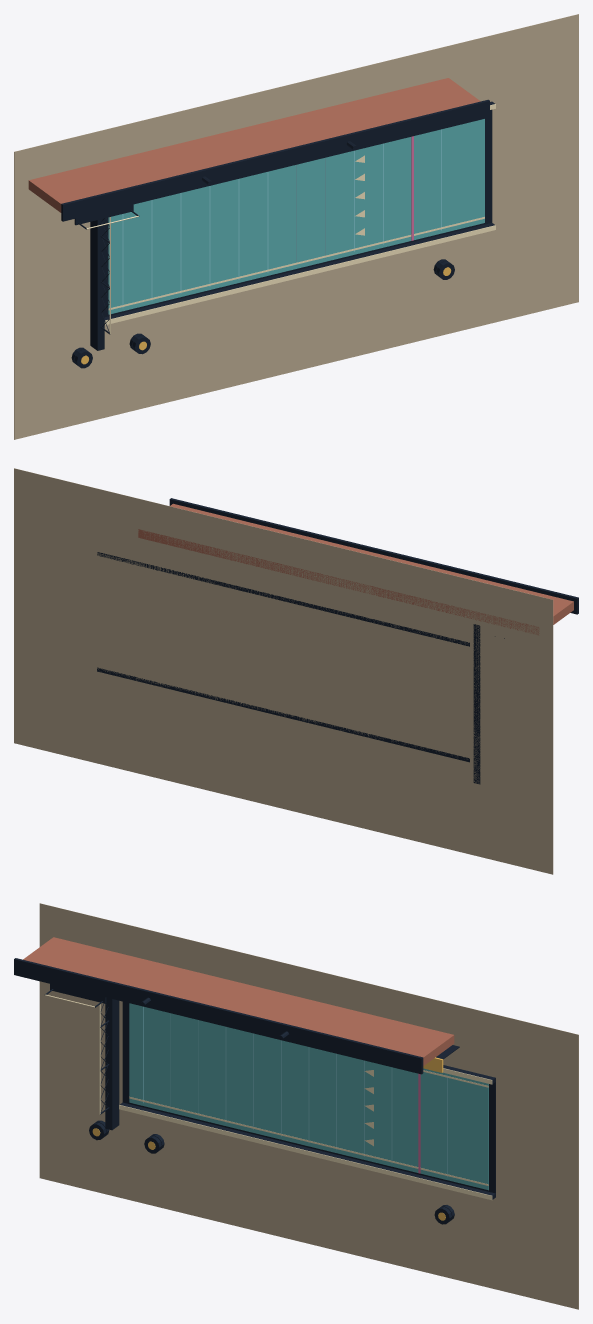
File: arcade-courtyard.glb
3 views of the same model, one above another, from view 1: azimuth 30°, elevation 25°; view 2: azimuth 150°, elevation 25°; view 3: azimuth 330°, elevation 25° (orthographic). The views are drawn at different scales.
Parts seen in each view (by area): view 1: cel_stone_arcade courtyard, cel_teal_arcade courtyard, cel_ink_arcade courtyard, cel_brick_arcade courtyard, cel_cream_arcade courtyard, cel_glass_arcade courtyard; view 2: cel_stone_arcade courtyard, cel_ink_arcade courtyard, cel_brick_arcade courtyard; view 3: cel_stone_arcade courtyard, cel_teal_arcade courtyard, cel_ink_arcade courtyard, cel_brick_arcade courtyard, cel_cream_arcade courtyard, cel_glass_arcade courtyard.
Boxes of the visible parts, left/top/right/bottom form: cel_stone_arcade courtyard: left=14, top=14, right=578, bottom=439; cel_teal_arcade courtyard: left=108, top=119, right=484, bottom=314; cel_ink_arcade courtyard: left=61, top=99, right=494, bottom=368; cel_brick_arcade courtyard: left=28, top=78, right=480, bottom=212; cel_cream_arcade courtyard: left=86, top=104, right=495, bottom=334; cel_glass_arcade courtyard: left=122, top=129, right=441, bottom=307; cel_stone_arcade courtyard: left=14, top=468, right=553, bottom=874; cel_ink_arcade courtyard: left=97, top=498, right=578, bottom=784; cel_brick_arcade courtyard: left=138, top=503, right=573, bottom=635; cel_stone_arcade courtyard: left=39, top=903, right=578, bottom=1309; cel_teal_arcade courtyard: left=129, top=1003, right=488, bottom=1190; cel_ink_arcade courtyard: left=14, top=958, right=495, bottom=1224; cel_brick_arcade courtyard: left=23, top=937, right=454, bottom=1065; cel_cream_arcade courtyard: left=45, top=994, right=492, bottom=1200; cel_glass_arcade courtyard: left=143, top=1006, right=447, bottom=1177.
Bounding box in the file's own units: 39 × 19 × 5.3.
